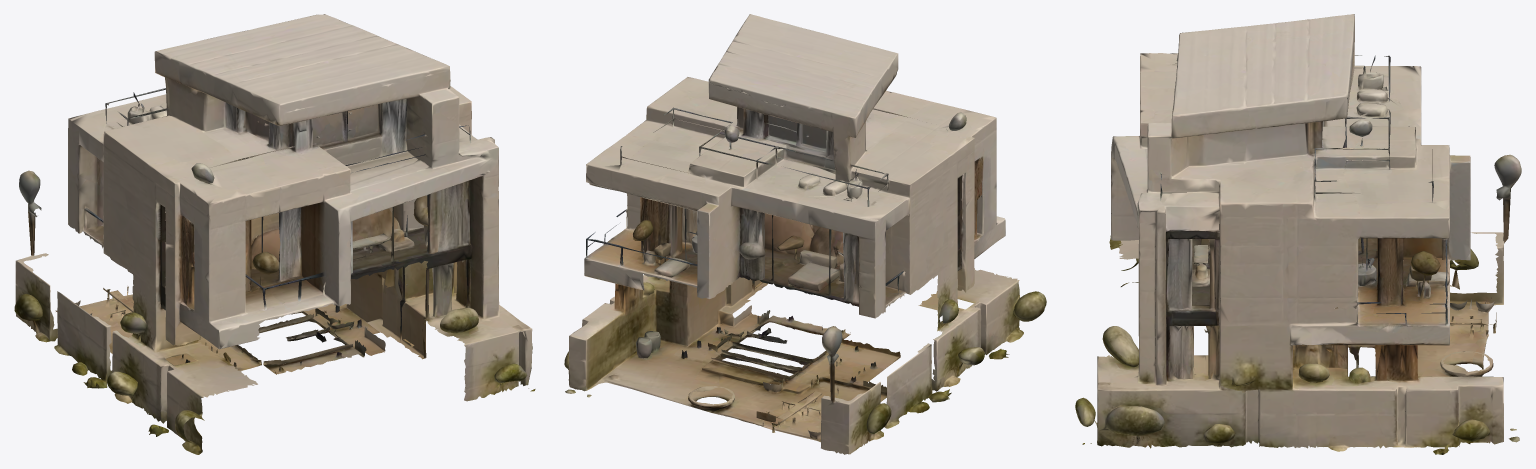
File: villa-lite-64d05453.glb
3 renders of one model, left to right at view 1: azimuth 30°, elevation 25°; view 2: azimuth 150°, elevation 25°; view 3: azimuth 270°, elevation 25°, orthographic. The views are drawn at different scales.
Parts seen in each view (by area): view 1: tripo_node_788fb297-6775-485e-bb4e-9acebe1e4410; view 2: tripo_node_788fb297-6775-485e-bb4e-9acebe1e4410; view 3: tripo_node_788fb297-6775-485e-bb4e-9acebe1e4410.
Boxes of the visible parts, x1,y1,x2,y2 form: tripo_node_788fb297-6775-485e-bb4e-9acebe1e4410: (14,14,535,454); tripo_node_788fb297-6775-485e-bb4e-9acebe1e4410: (564,14,1046,454); tripo_node_788fb297-6775-485e-bb4e-9acebe1e4410: (1075,14,1521,454).
Bounding box in the file's own units: 11.01 × 8.89 × 11.55.
Materials: 1 (1 with a texture image).
